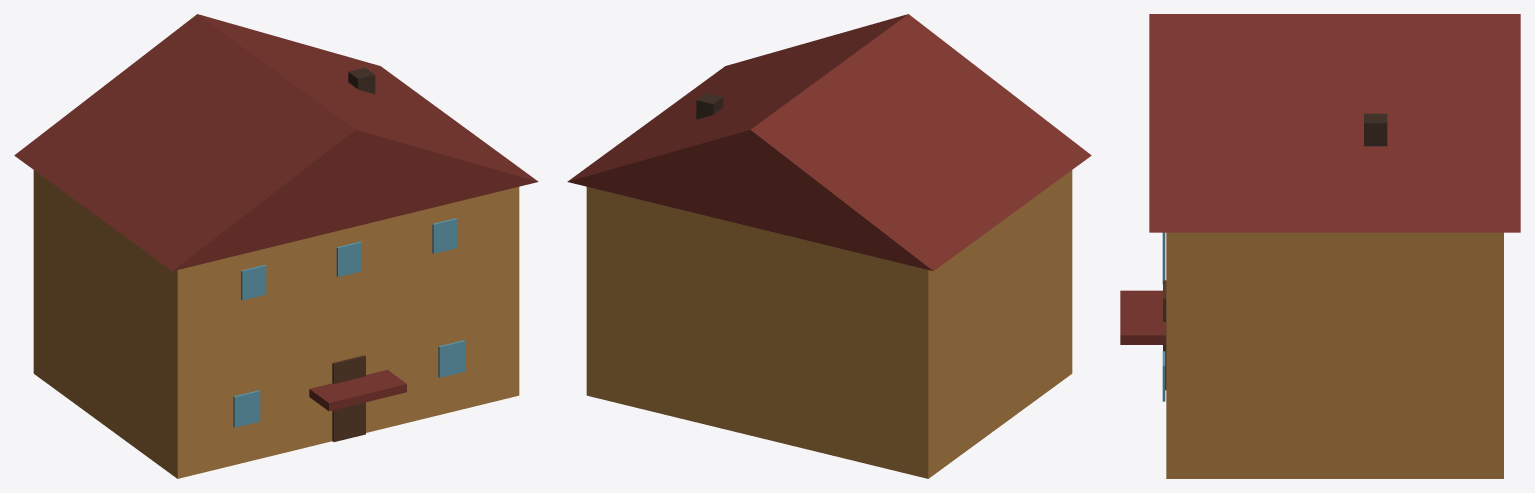
File: house_large.obj
3 renders of one model, left to right at view 1: azimuth 30°, elevation 25°; view 2: azimuth 150°, elevation 25°; view 3: azimuth 270°, elevation 25°, orthographic. The views are drawn at different scales.
Visible parts, largest first — view 1: Cube; view 2: Cube; view 3: Cube.
Boxes of the visible parts, x1=… form: Cube: x1=14, y1=14, x2=538, y2=478; Cube: x1=567, y1=14, x2=1091, y2=478; Cube: x1=1120, y1=14, x2=1520, y2=478.
Size of the model in its own units: 10.3 by 8.4 by 8.3.
